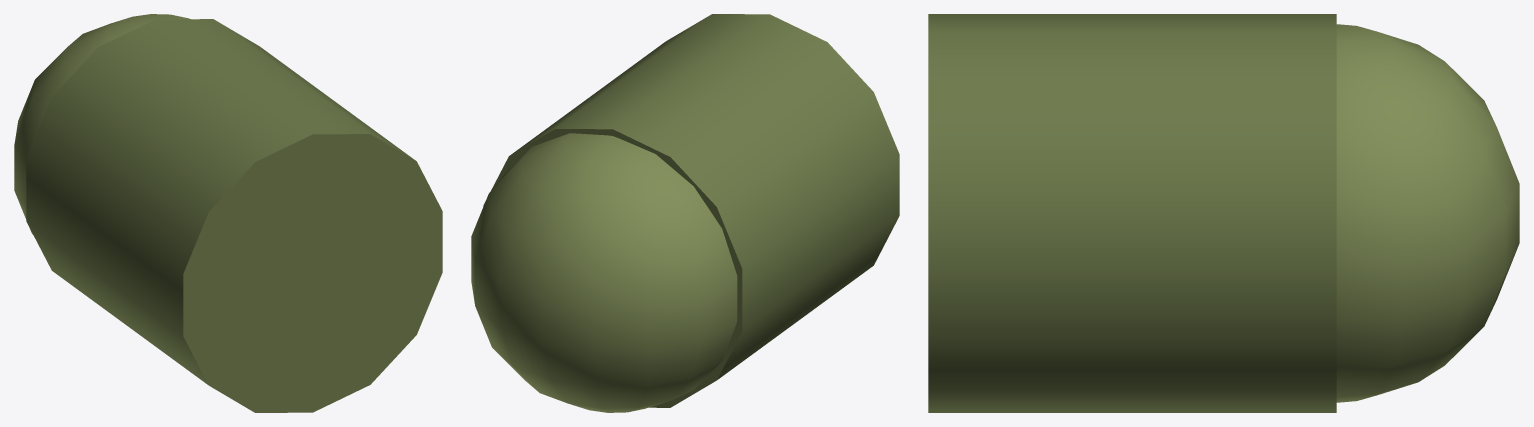
File: fragment.glb
3 renders of one model, left to right at view 1: azimuth 30°, elevation 25°; view 2: azimuth 150°, elevation 25°; view 3: azimuth 270°, elevation 25°, orthographic. The views are drawn at different scales.
Parts seen in each view (by area): view 1: _MeshInstance3D_189, _MeshInstance3D_190; view 2: _MeshInstance3D_189, _MeshInstance3D_190; view 3: _MeshInstance3D_189, _MeshInstance3D_190.
Part boxes in pixels (<box>): _MeshInstance3D_189: <box>26,19,442,412</box>; _MeshInstance3D_190: <box>14,14,190,234</box>; _MeshInstance3D_189: <box>483,14,899,407</box>; _MeshInstance3D_190: <box>471,133,737,412</box>; _MeshInstance3D_189: <box>928,14,1336,412</box>; _MeshInstance3D_190: <box>1336,24,1519,402</box>.
Bounding box in the file's own units: 0.429 × 0.44 × 0.6518.
